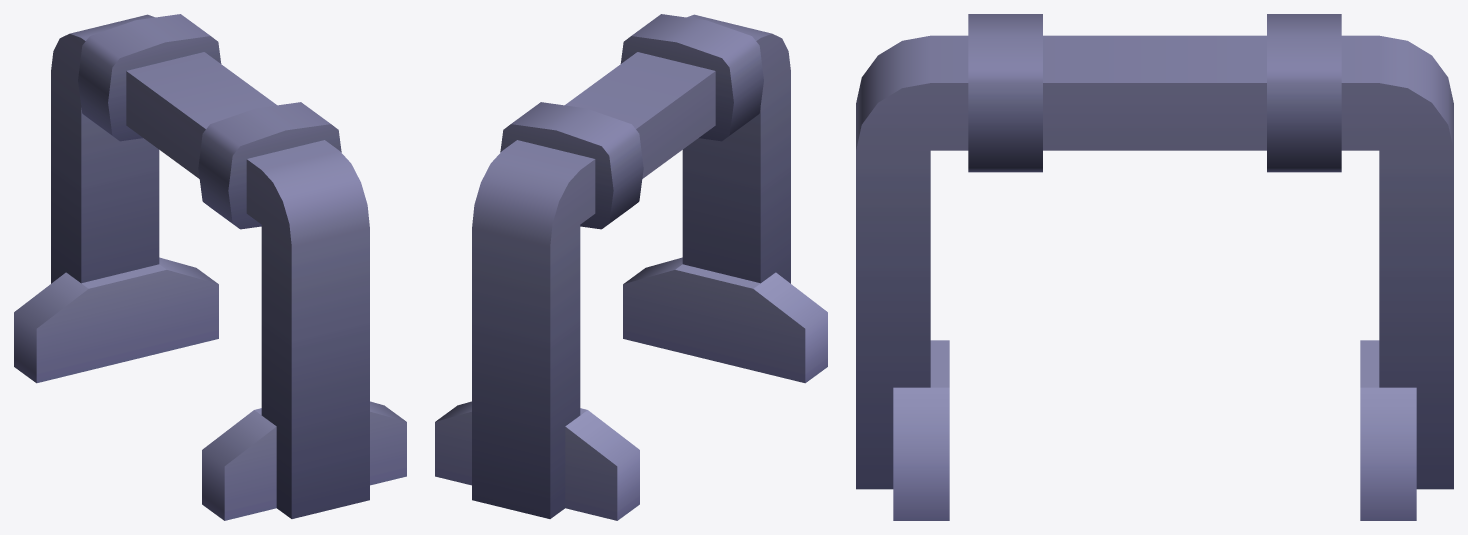
Rendered from kenney-conveyor-scanner-high.glb.
3 views of the same model, side by side, from view 1: azimuth 30°, elevation 25°; view 2: azimuth 150°, elevation 25°; view 3: azimuth 270°, elevation 25° (orthographic). The views are drawn at different scales.
Visible parts, largest first — view 1: scanner-high; view 2: scanner-high; view 3: scanner-high.
Part boxes in pixels (x1,y1,x2,y2): scanner-high: (14,14,406,520); scanner-high: (435,14,827,520); scanner-high: (856,14,1453,520).
Bounding box in the file's own units: 0.7001 × 1.27 × 1.6.
Materials: 1 (1 with a texture image).
